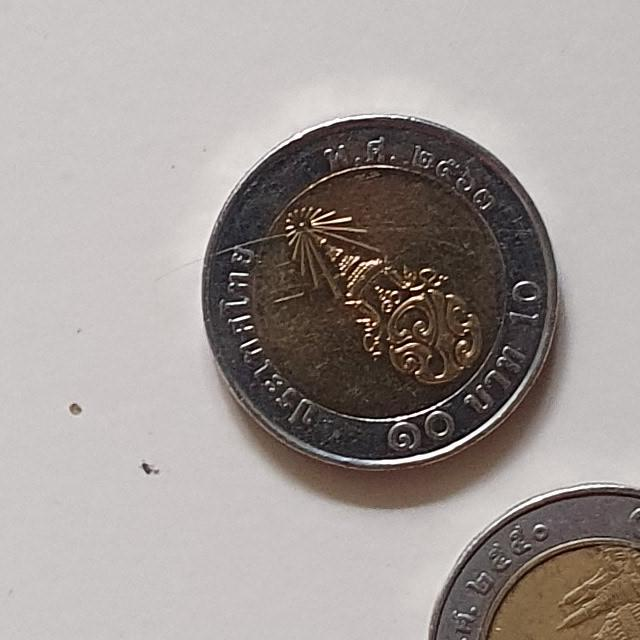10 Bath: (202, 110, 567, 481), (424, 481, 640, 640)
